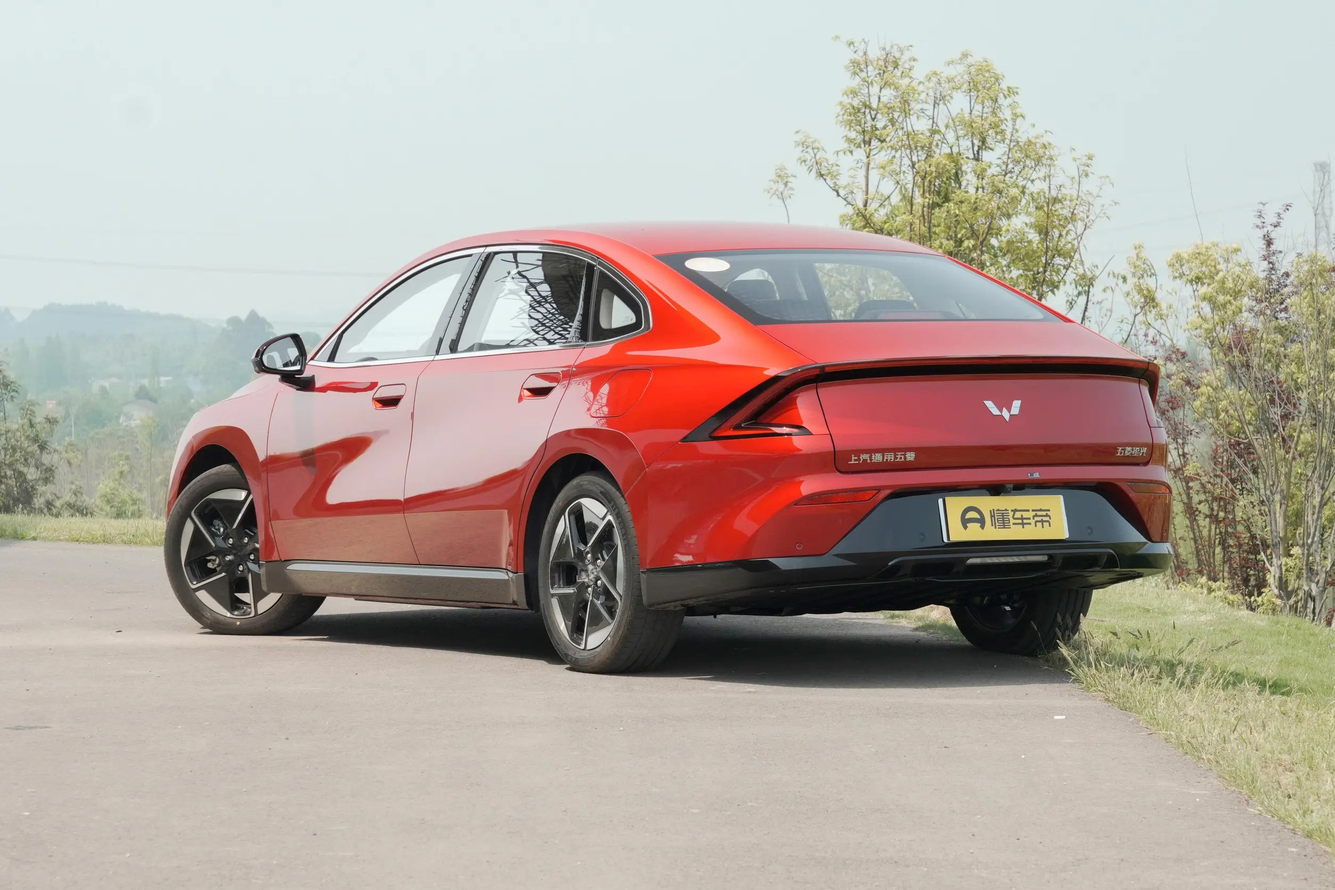SGMW: (983, 400, 1021, 421)
